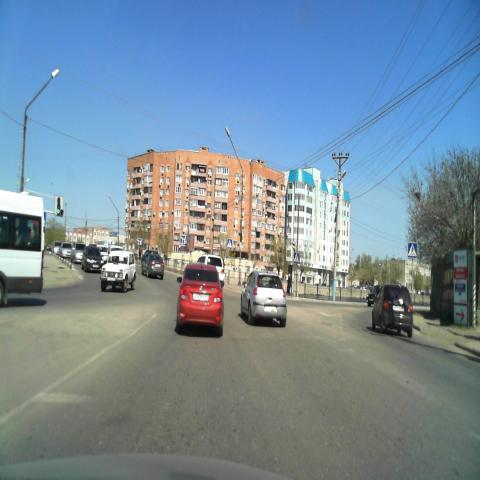5_15_2_2: (180, 235, 187, 244)
5_19_1: (407, 242, 417, 258), (290, 253, 296, 264), (227, 238, 232, 249)
